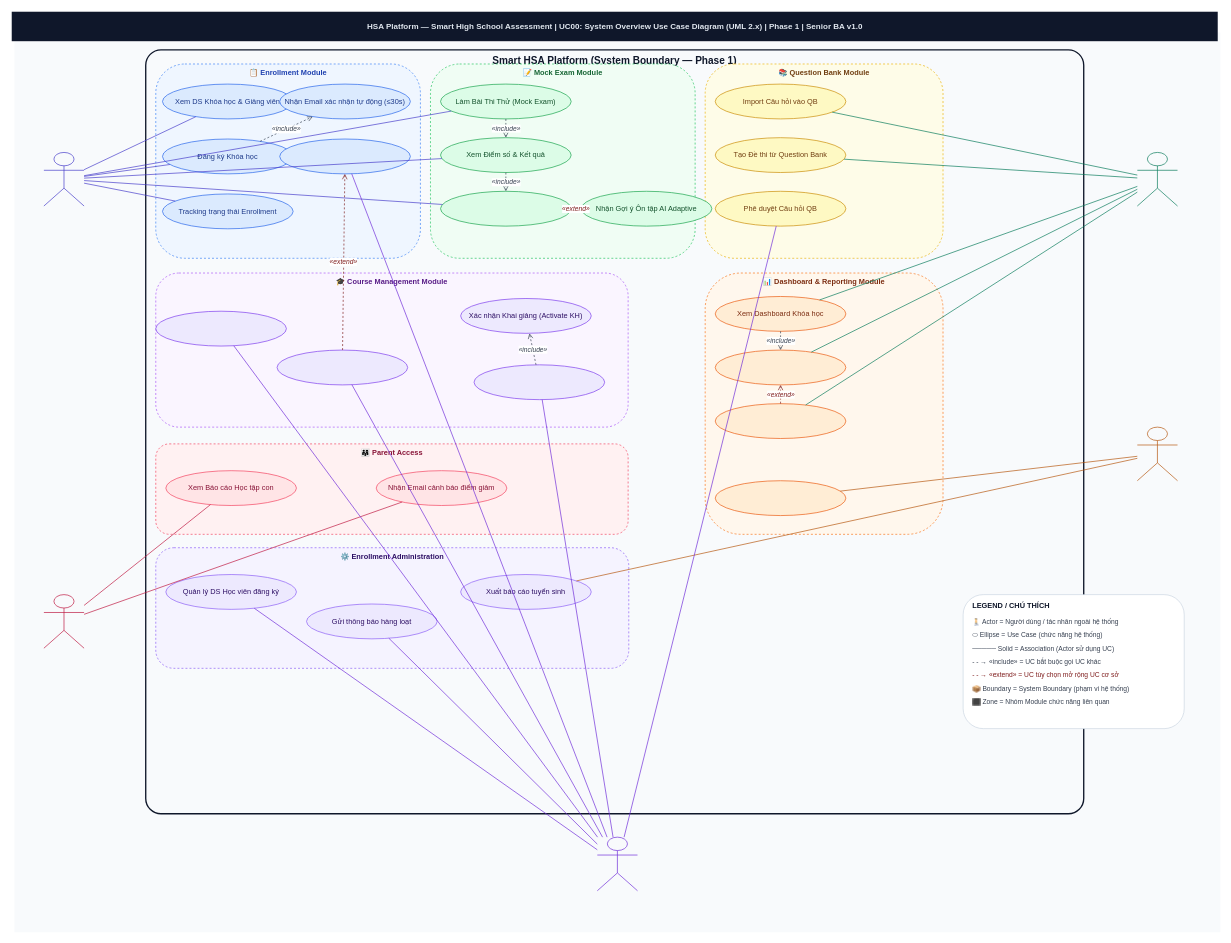
This 1231x943 diagram has some shape labels left out. The shapes that lost their labels are listed below. From the top down, each one's centre as x and y in pixels, then its label:
At point (344, 156): "Xác nhận Enrollment & Thanh toán".
At point (63, 179): "Học viên".
At point (1157, 179): "Giảng viên".
At point (505, 208): "Xem Radar Chart Năng lực".
At point (220, 328): "Tạo & Publish Khóa học".
At point (342, 367): "Từ chối Enrollment".
At point (539, 382): "Phân công Giảng viên vào KH".
At point (780, 367): "Xem Competency Profile HV".
At point (780, 421): "Giao tài liệu bổ trợ cho HV yếu".
At point (1157, 453): "Giám đốc / Chủ TT".
At point (780, 498): "Xem Dashboard KPI Trung tâm".
At point (63, 621): "Phụ huynh".
At point (617, 863): "Quản lý / NV Vận hành".
